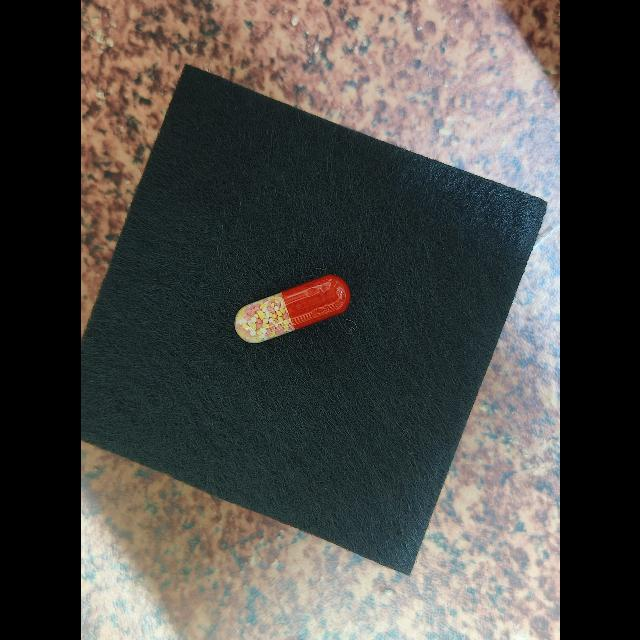Intact Capsule: (233, 274, 350, 343)
